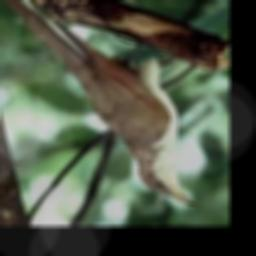Cuckoo: (0, 0, 194, 205)
